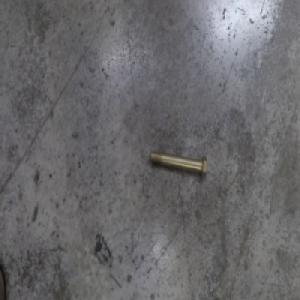Bolt: (147, 150, 208, 180)
